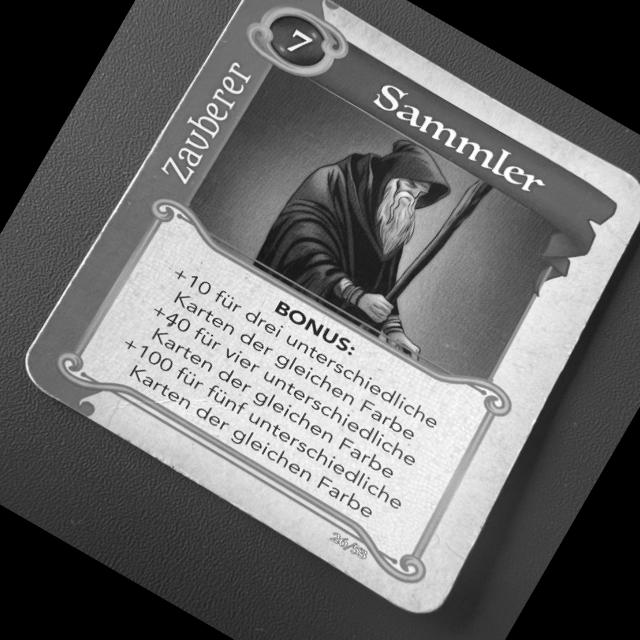Collector: (0, 0, 640, 631)
